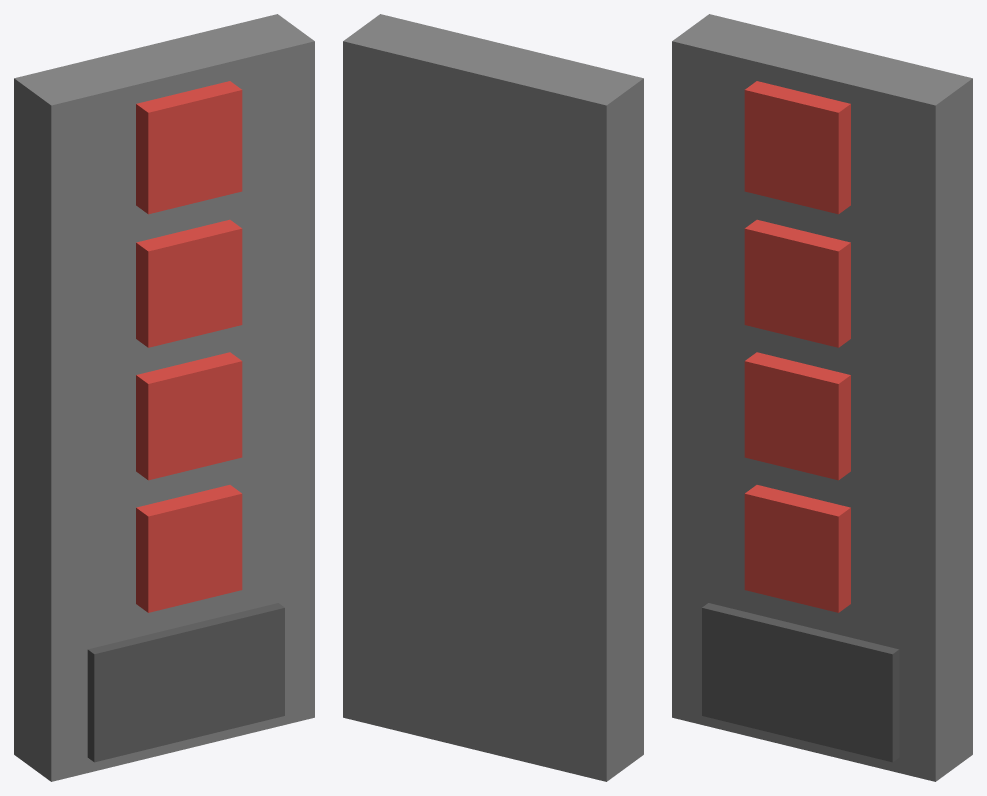
Rendered from Elevator buttons.fbx.
3 renders of one model, left to right at view 1: azimuth 30°, elevation 25°; view 2: azimuth 150°, elevation 25°; view 3: azimuth 330°, elevation 25°, orthographic.
Parts seen in each view (by area): view 1: Elevator floor buttons.001; view 2: Elevator floor buttons.001; view 3: Elevator floor buttons.001.
Boxes of the visible parts, x1,y1,x2,y2 form: Elevator floor buttons.001: [14, 14, 314, 781]; Elevator floor buttons.001: [343, 14, 643, 781]; Elevator floor buttons.001: [672, 14, 972, 781].
Size of the model in its own units: 159 by 51.51 by 389.
